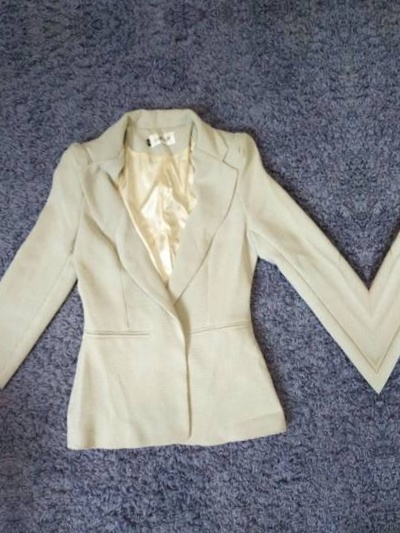Blazer: (0, 81, 381, 483), (353, 46, 400, 447), (0, 117, 6, 519)
